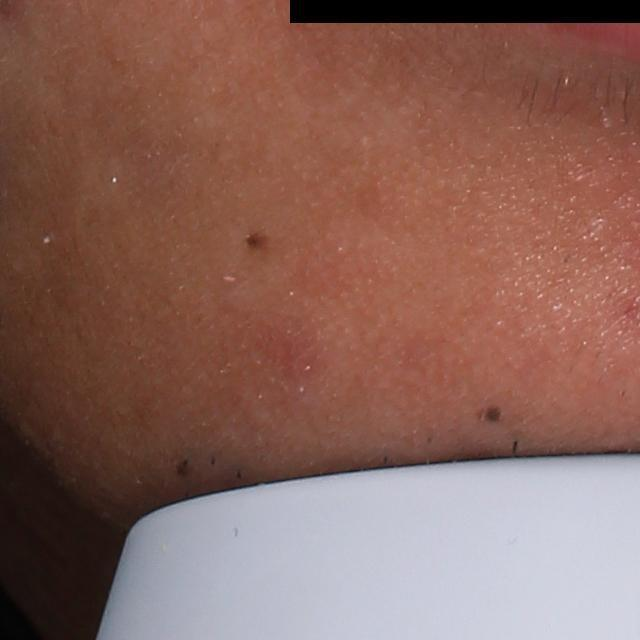nevus: (239, 225, 272, 252), (480, 397, 507, 426), (173, 453, 195, 478)
